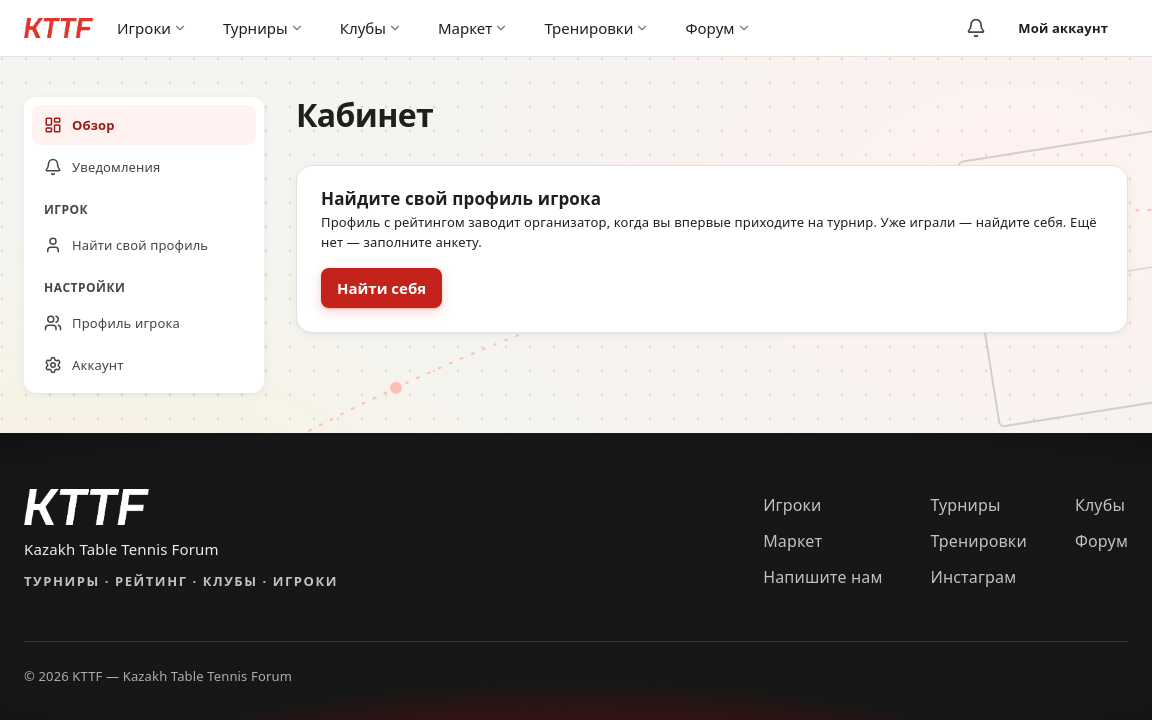
шапка вошедшего — ADR-048 › без профиля — создать его, без клубов — пункта «Мои клубы» нет
What coordinates should you click on to do the following:
click the button "Мой аккаунт"
I would click on:
 (1067, 28)
Its box is [1006,6,1128,50].
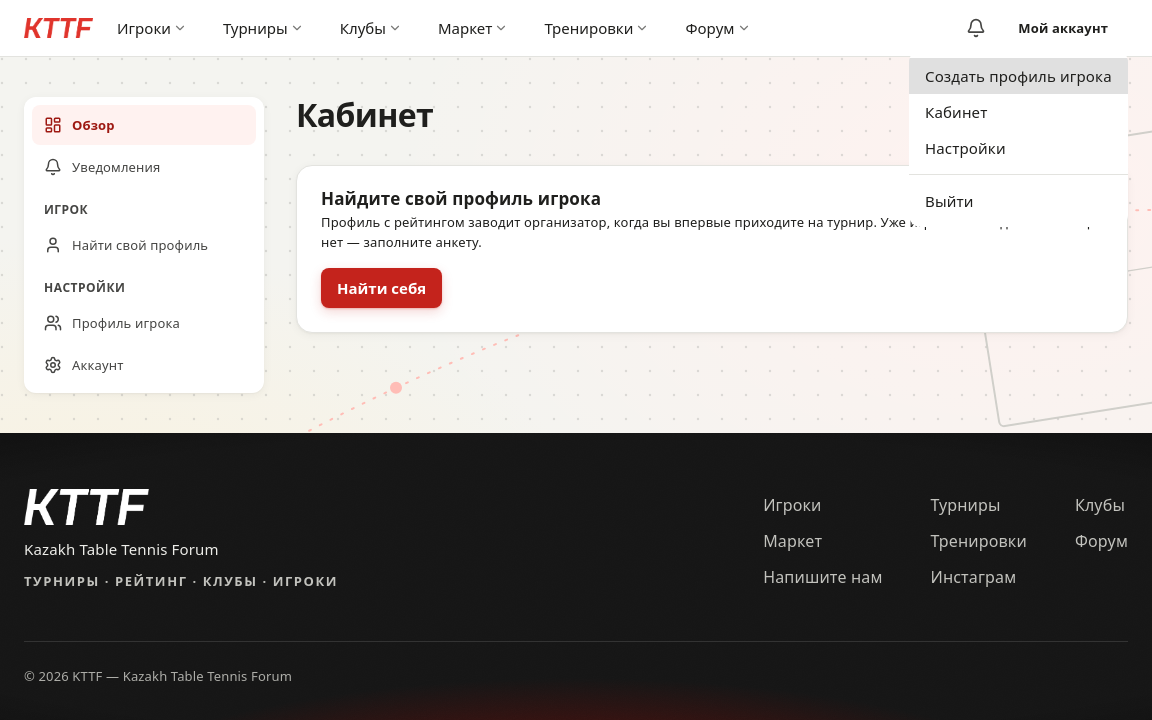
Expected: the menu item "Создать профиль игрока" is shown, [909,58,1128,94]
